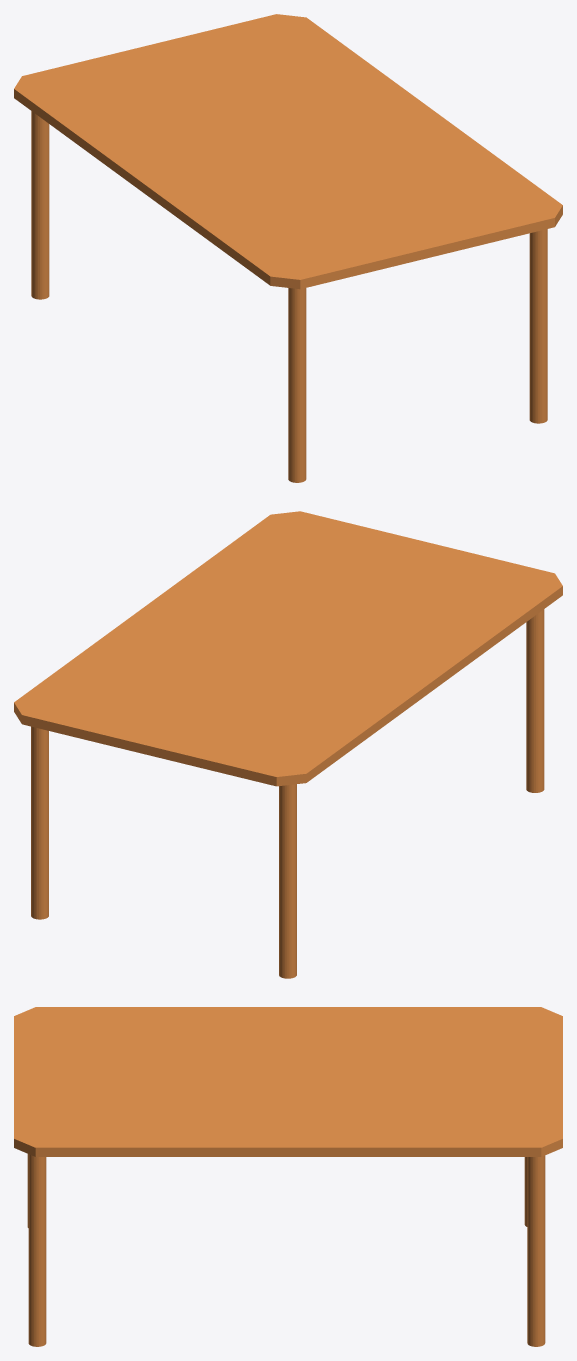
Rendered from table.fbx.
3 renders of one model, top to bottom at view 1: azimuth 30°, elevation 25°; view 2: azimuth 150°, elevation 25°; view 3: azimuth 270°, elevation 25°, orthographic.
Parts seen in each view (by area): view 1: Cube; view 2: Cube; view 3: Cube.
Boxes of the visible parts, box(x1,y1,x2,y2) form: Cube: box(14, 14, 562, 482); Cube: box(14, 511, 562, 978); Cube: box(14, 1007, 562, 1346).
Size of the model in its own units: 876 by 600 by 1444.
